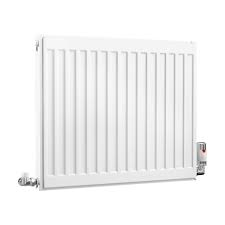Radiator: (23, 39, 208, 191)
